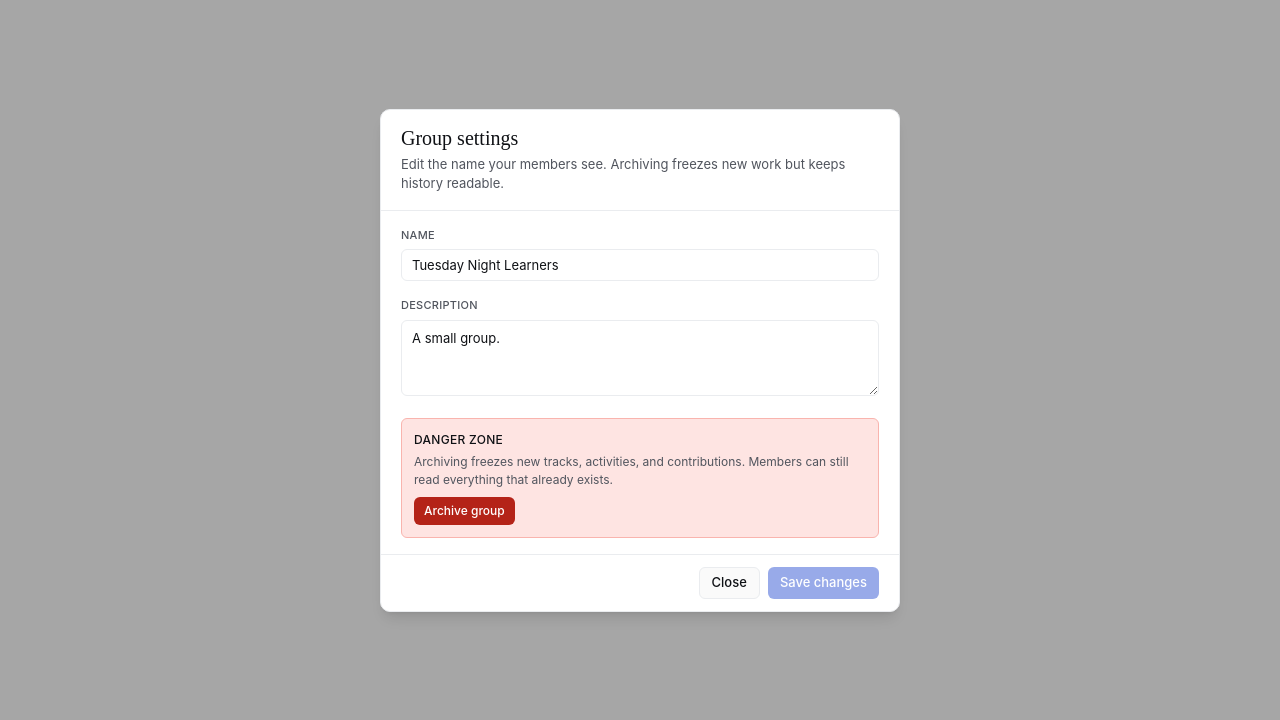
Test case: GroupSettingsDialog dirty gate › disables Save on a pristine form and enables it once a field changes
Check: the button "Save changes" is disabled, box left=768, top=566, right=879, bottom=598
Type " edited" into the field labelled "Name". click: (640, 265)
box: left=401, top=249, right=879, bottom=281
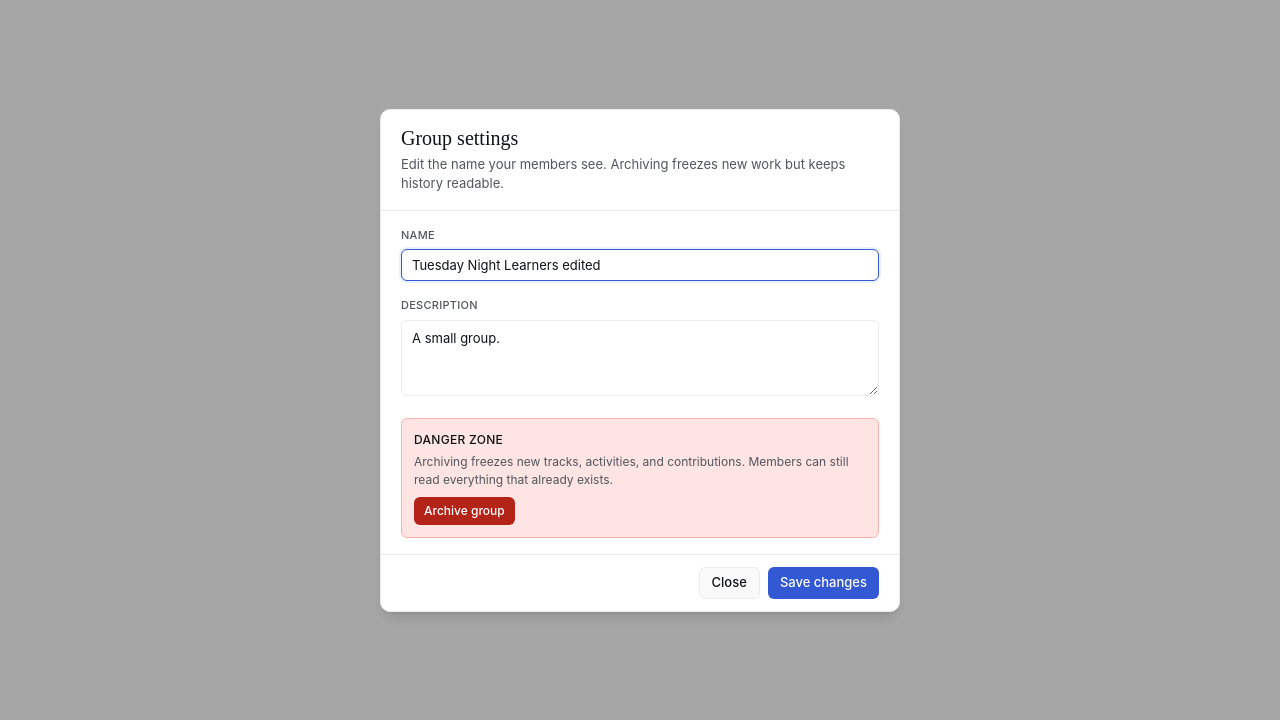
Check: the button "Save changes" is enabled, box left=768, top=566, right=879, bottom=598
